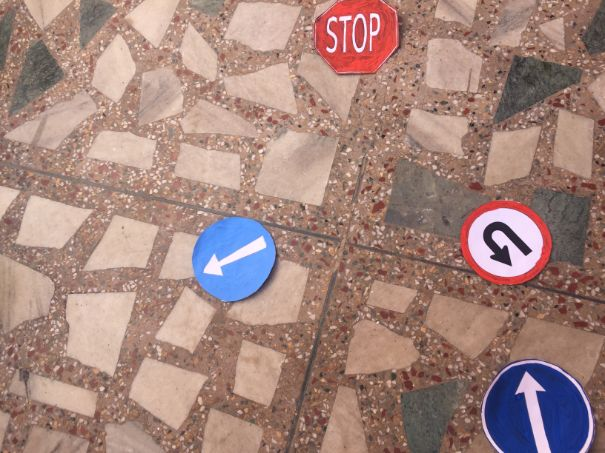go-stright: (480, 359, 592, 453)
keep-left: (193, 216, 275, 302)
stop: (314, 2, 397, 71)
u-turn: (459, 200, 550, 285)
